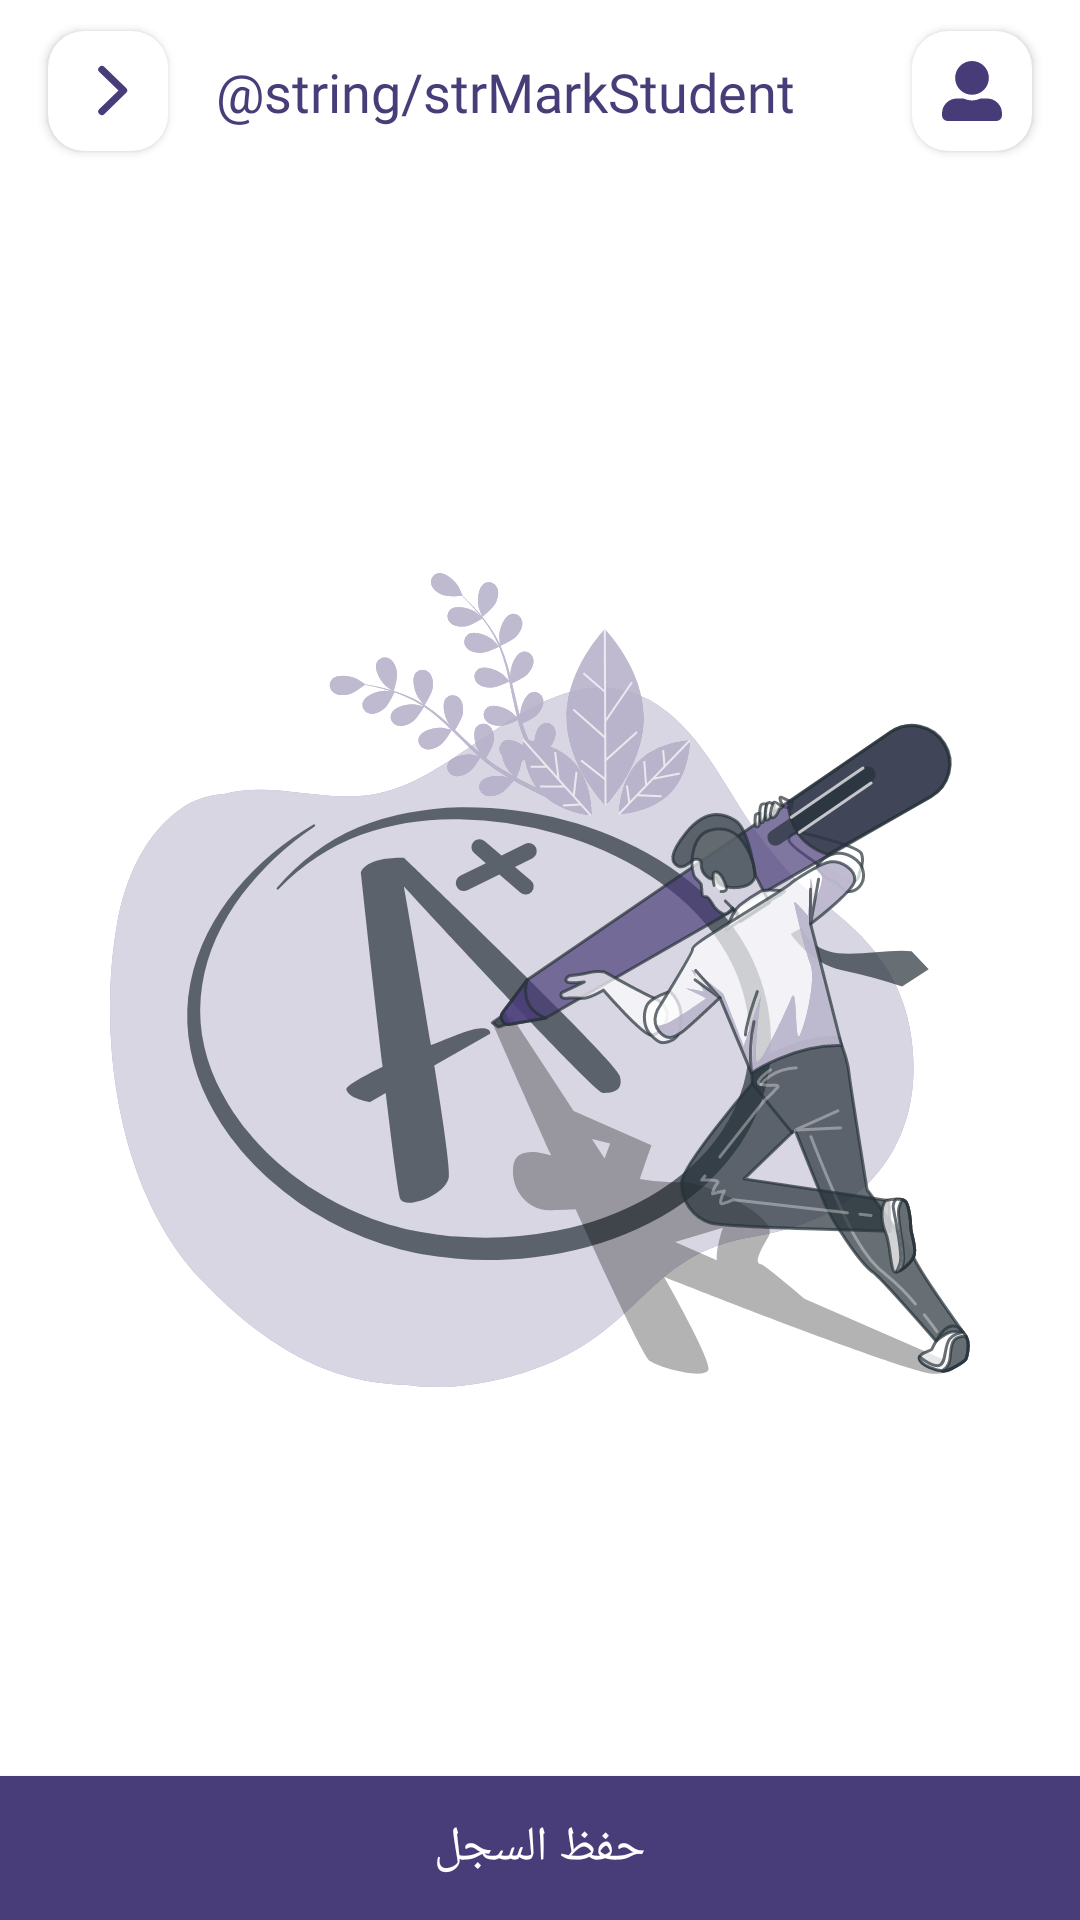

Where to tap for icons on this 1080w x 1920h app screen, as (x=x, y=y):
profile: (x=972, y=91)
